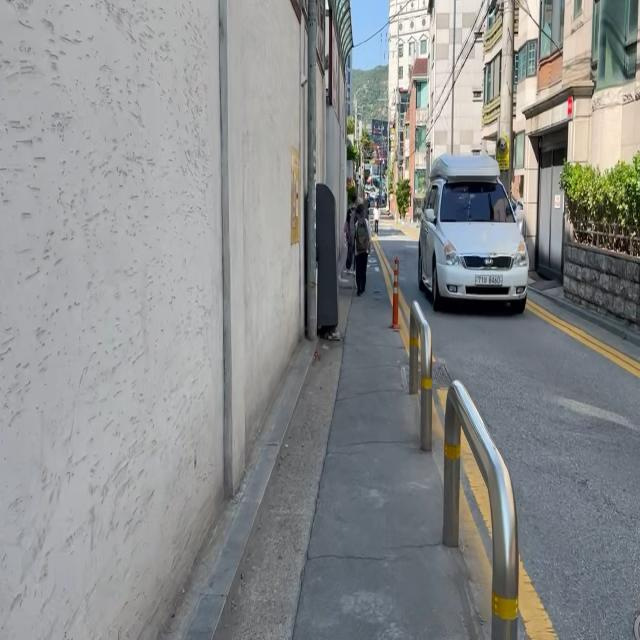building: (1, 0, 353, 638), (482, 3, 640, 148), (391, 5, 479, 149)
car: (417, 150, 529, 314)
